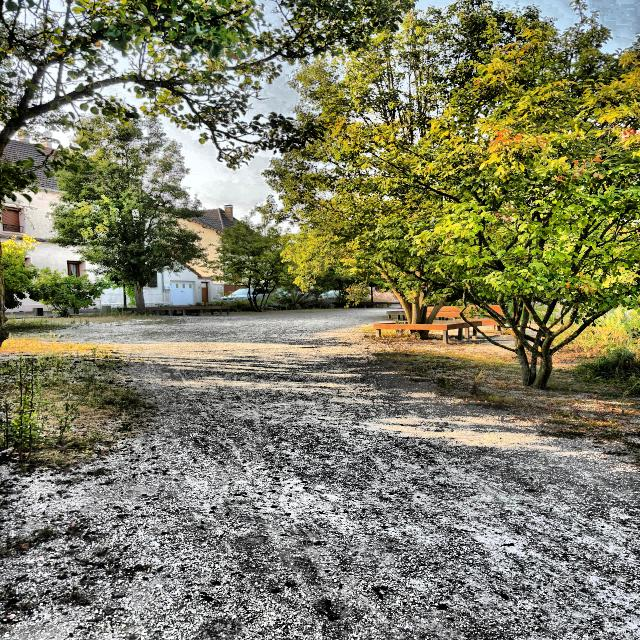arvore: (456, 126, 593, 389), (107, 130, 163, 312), (214, 224, 271, 313), (29, 269, 105, 317)
